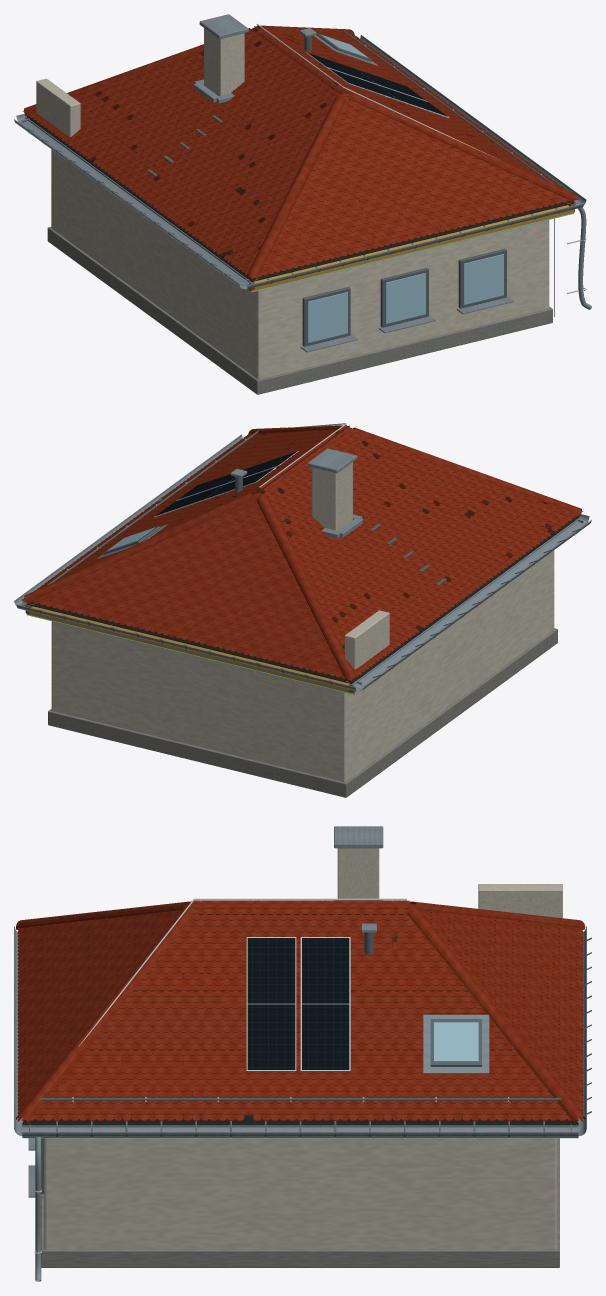
The model's file is uebersicht.glb.
3 renders of one model, top to bottom at view 1: azimuth 30°, elevation 25°; view 2: azimuth 150°, elevation 25°; view 3: azimuth 270°, elevation 25°, orthographic. The views are drawn at different scales.
Visible parts, largest first — view 1: Bauteil_s01_deckung, Putzkörper Erdgeschoss, Bauteil_w04_deckung, Sockelzone, Bauteil_w01_deckung, Bauteil_g02_tragwerk.001, Bauteil_s03_deckung, Bauteil_g02_tragwerk, Schornsteinschaft, Bauteil_g03_daemmung, Bauteil_g01_zusatzebene, Bauteil_s02_deckung (+9 smaller); view 2: Putzkörper Erdgeschoss, Bauteil_s01_deckung, Bauteil_w04_deckung, Sockelzone, Bauteil_w01_deckung, Bauteil_s03_deckung, Schornsteinschaft, Bauteil_g03_daemmung, Bauteil_g01_zusatzebene, Bauteil_s02_deckung, Anschlusswand Nachbarbauteil, Bauteil_a01_deckung.001 (+5 smaller); view 3: Bauteil_s01_deckung, Putzkörper Erdgeschoss, Bauteil_w04_deckung, Bauteil_a01_deckung.001, Sockelzone, Bauteil_w01_deckung, Bauteil_s03_deckung, Bauteil_g01_zusatzebene, Bauteil_s02_deckung, Anschlusswand Nachbarbauteil, Schornsteinschaft, Dachfenster Glas (+10 smaller).
Boxes of the visible parts, <box> form: Bauteil_s01_deckung: <box>24,26,576,277</box>; Putzkörper Erdgeschoss: <box>51,149,549,379</box>; Bauteil_w04_deckung: <box>22,92,578,278</box>; Sockelzone: <box>47,227,552,394</box>; Bauteil_w01_deckung: <box>24,25,576,279</box>; Bauteil_g02_tragwerk.001: <box>307,254,503,342</box>; Bauteil_s03_deckung: <box>14,35,586,289</box>; Bauteil_g02_tragwerk: <box>302,248,506,346</box>; Schornsteinschaft: <box>204,28,244,95</box>; Bauteil_g03_daemmung: <box>251,205,574,291</box>; Bauteil_g01_zusatzebene: <box>27,115,573,281</box>; Bauteil_s02_deckung: <box>19,117,581,286</box>; Putzkörper Erdgeschoss: <box>51,550,554,782</box>; Bauteil_s01_deckung: <box>24,425,579,679</box>; Bauteil_w04_deckung: <box>22,493,583,680</box>; Sockelzone: <box>48,628,557,797</box>; Bauteil_w01_deckung: <box>24,425,581,681</box>; Bauteil_s03_deckung: <box>14,434,591,691</box>; Schornsteinschaft: <box>312,462,352,530</box>; Bauteil_g03_daemmung: <box>26,606,352,693</box>; Bauteil_g01_zusatzebene: <box>26,516,579,683</box>; Bauteil_s02_deckung: <box>19,518,586,688</box>; Anschlusswand Nachbarbauteil: <box>344,610,389,694</box>; Bauteil_a01_deckung.001: <box>155,451,296,515</box>; Bauteil_s01_deckung: <box>22,900,578,1120</box>; Putzkörper Erdgeschoss: <box>44,1138,556,1249</box>; Bauteil_w04_deckung: <box>17,904,583,1121</box>; Bauteil_a01_deckung.001: <box>247,938,349,1069</box>; Sockelzone: <box>41,1138,559,1267</box>; Bauteil_w01_deckung: <box>16,901,585,1123</box>; Bauteil_s03_deckung: <box>14,926,586,1136</box>; Bauteil_g01_zusatzebene: <box>22,932,578,1125</box>; Bauteil_s02_deckung: <box>22,1121,578,1131</box>; Anschlusswand Nachbarbauteil: <box>478,884,562,918</box>; Schornsteinschaft: <box>337,848,379,900</box>; Dachfenster Glas: <box>434,1022,478,1061</box>.
Bounding box in the file's own units: 10.67 × 7.16 × 11.94.
Materials: 13 (9 with a texture image).
